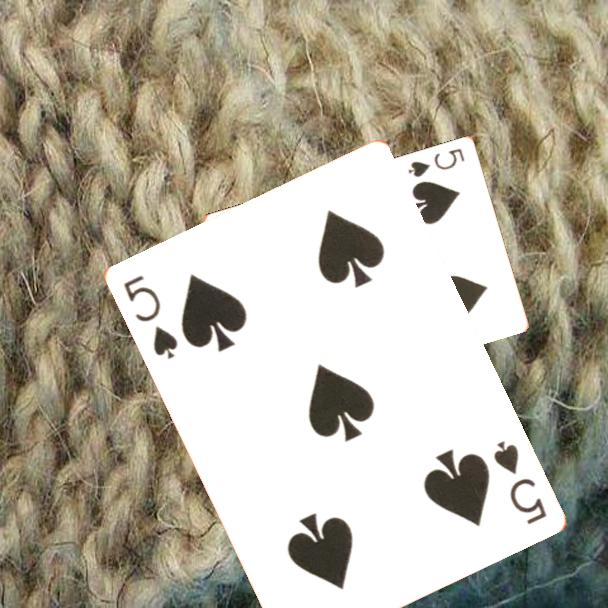s05: (119, 271, 180, 362), (489, 437, 549, 527), (405, 144, 468, 180)
